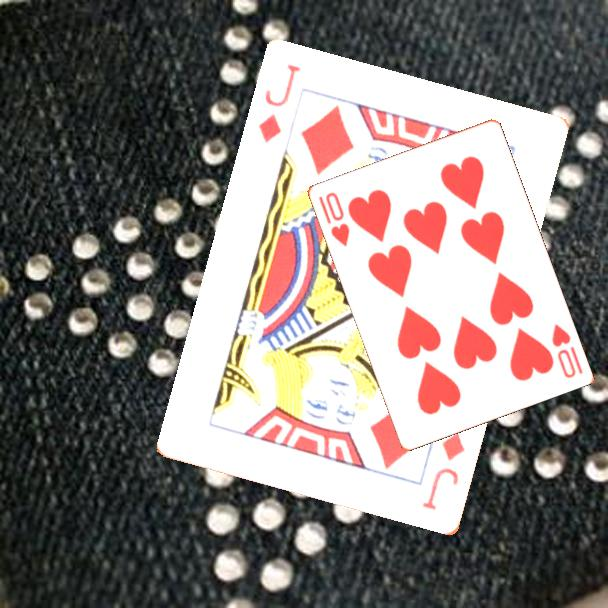d11: (419, 429, 468, 514), (255, 61, 303, 147)
h10: (315, 188, 352, 249), (548, 320, 585, 381)
